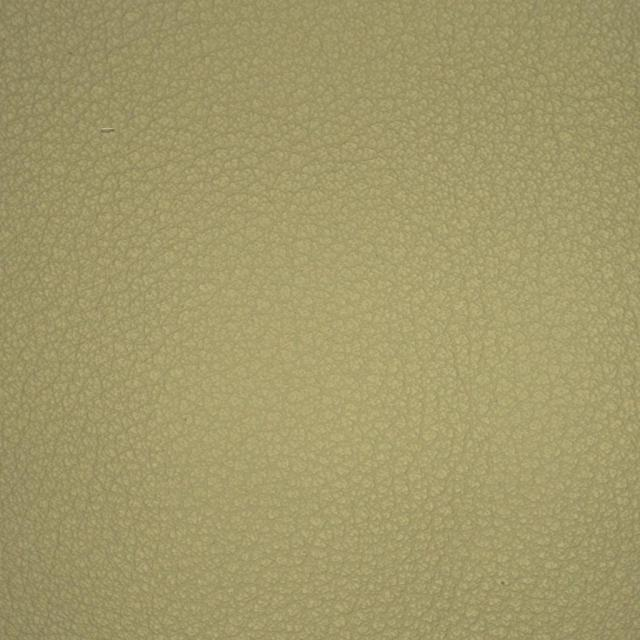Scratch: (41, 75, 180, 192)
